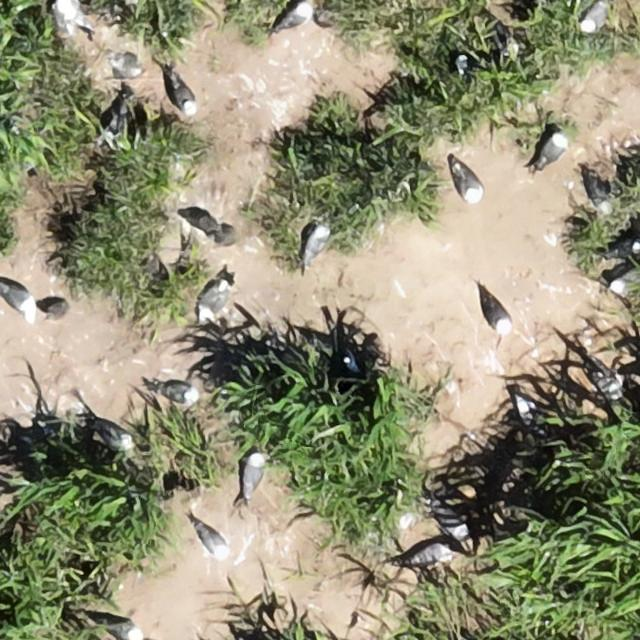umineko: (0, 275, 39, 324), (190, 516, 228, 558), (406, 544, 452, 568), (458, 168, 484, 204), (487, 298, 513, 333), (199, 284, 226, 316), (432, 509, 463, 536), (160, 384, 198, 406), (96, 425, 132, 448), (242, 455, 262, 496), (510, 395, 535, 427), (304, 226, 326, 259), (174, 79, 196, 112), (541, 133, 565, 163), (104, 621, 144, 639), (581, 3, 605, 32), (282, 5, 309, 26), (610, 238, 638, 256)
